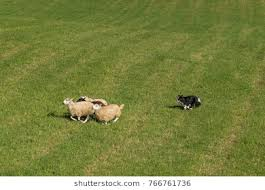sheep: (61, 95, 92, 124), (91, 102, 123, 124)
